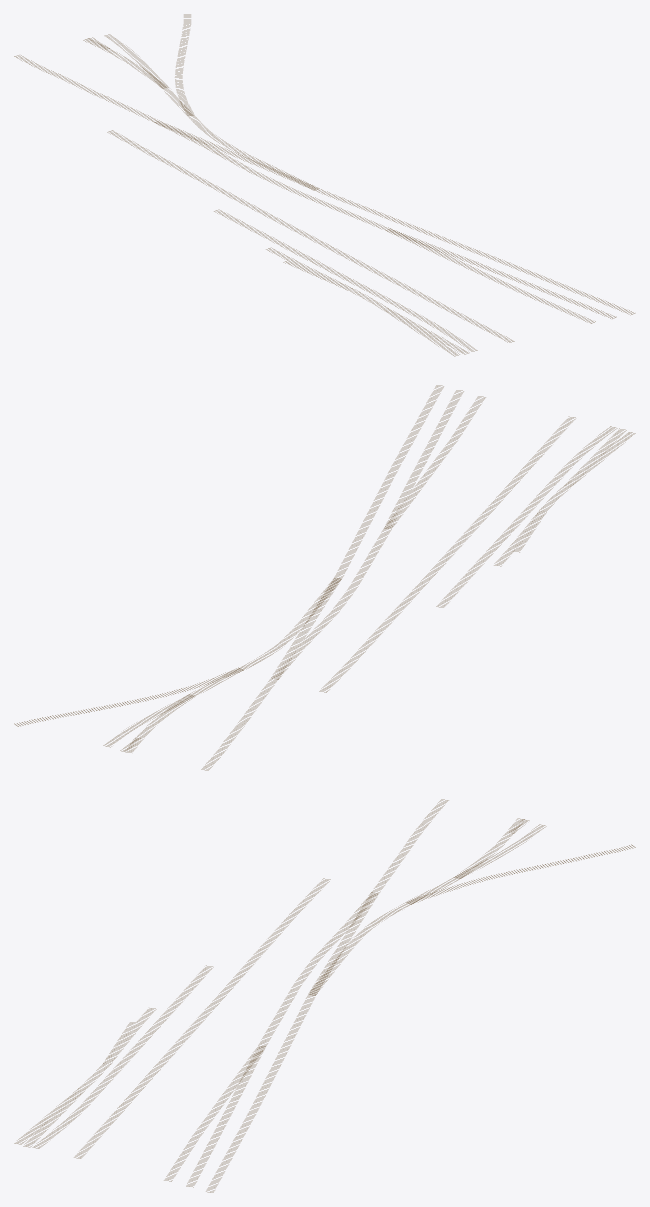
File: c_1631_17823_rail_sleeper.glb
The picture shows the model from 3 angles, top to bottom: view 1: azimuth 30°, elevation 25°; view 2: azimuth 150°, elevation 25°; view 3: azimuth 330°, elevation 25°; orthographic projection. The views are drawn at different scales.
Visible parts, largest first — view 1: geometry_0; view 2: geometry_0; view 3: geometry_0.
Boxes of the visible parts, x1=… form: geometry_0: x1=14, y1=14, x2=635, y2=356; geometry_0: x1=14, y1=385, x2=635, y2=770; geometry_0: x1=14, y1=799, x2=635, y2=1192.
Size of the model in its own units: 76.41 by 1.33 by 257.
